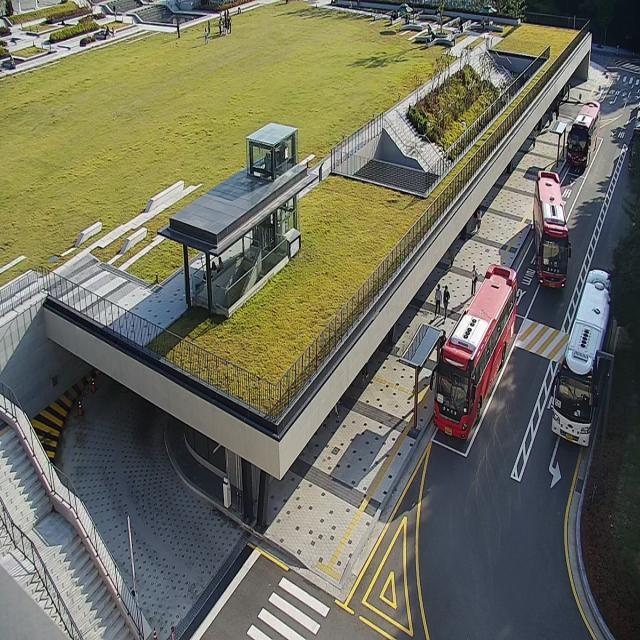queue: (414, 332, 442, 434)
